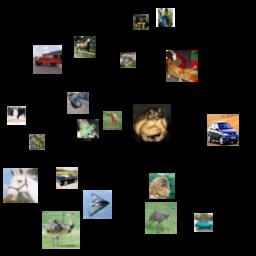airplane: (83, 190, 112, 219)
automobile: (207, 114, 239, 146), (67, 92, 89, 114), (56, 167, 78, 189), (194, 213, 213, 232)
bird: (42, 211, 80, 249), (145, 202, 177, 234), (156, 8, 175, 27)
cat: (166, 50, 198, 82), (7, 106, 26, 125)
deer: (103, 111, 122, 130), (120, 52, 136, 68)
dog: (149, 173, 175, 199), (133, 14, 149, 30)
frog: (133, 104, 171, 142), (77, 119, 99, 141), (29, 134, 45, 150)
truck: (33, 45, 62, 74)
